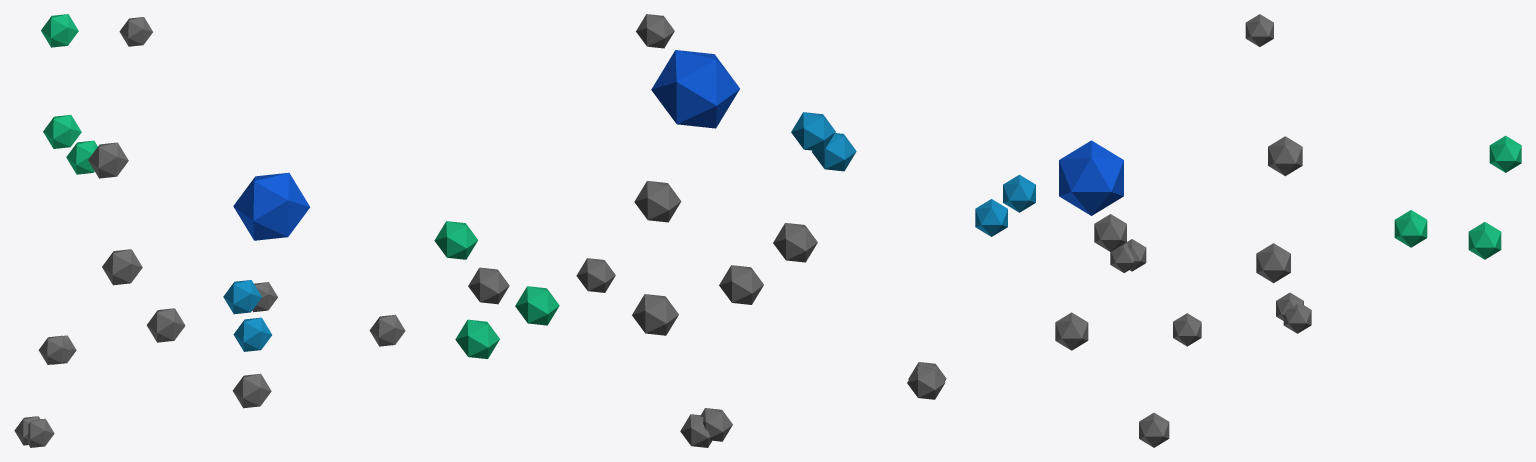
3 renders of one model, left to right at view 1: azimuth 30°, elevation 25°; view 2: azimuth 150°, elevation 25°; view 3: azimuth 270°, elevation 25°, orthographic. The views are drawn at different scales.
Visible parts, largest first — view 1: 06_09_08; view 2: 06_09_08; view 3: 06_09_08.
Part boxes in pixels (bbox=[...]): 06_09_08: bbox=[14, 14, 405, 447]; 06_09_08: bbox=[434, 14, 946, 447]; 06_09_08: bbox=[975, 14, 1521, 447].
Bounding box in the file's own units: 0.4819 × 0.403 × 0.587.
